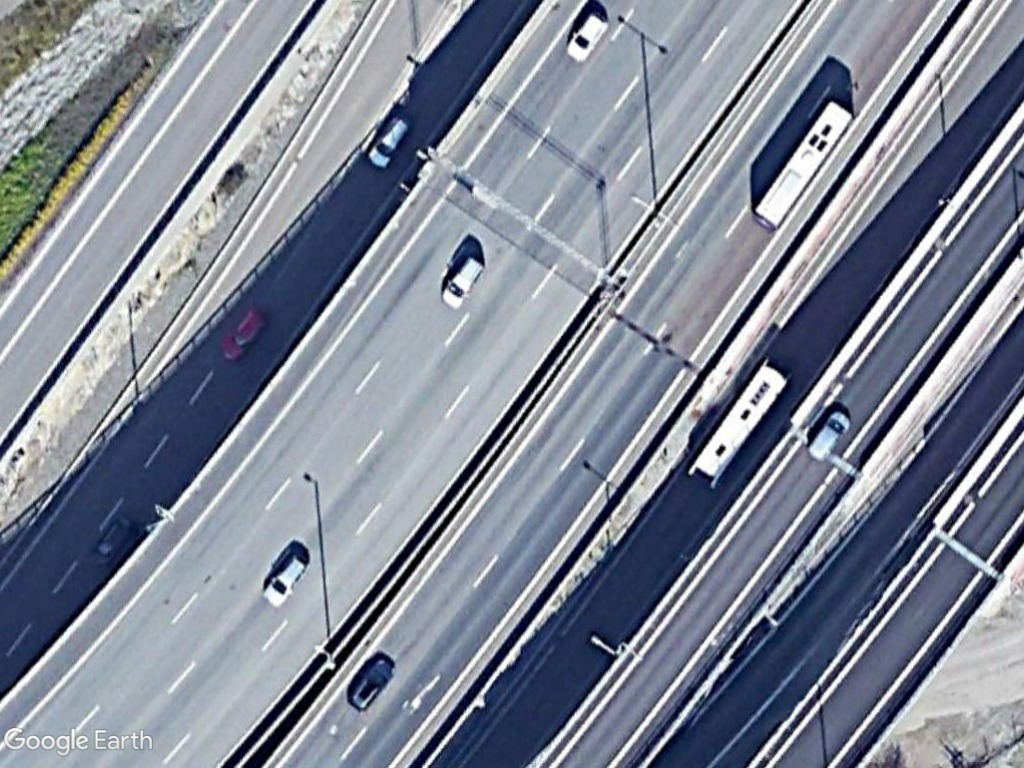bus: (681, 345, 797, 494), (745, 93, 860, 233)
car: (256, 545, 321, 617), (216, 292, 272, 368), (433, 247, 490, 318), (801, 404, 859, 469), (364, 106, 418, 173), (562, 5, 619, 68), (344, 650, 398, 714)
